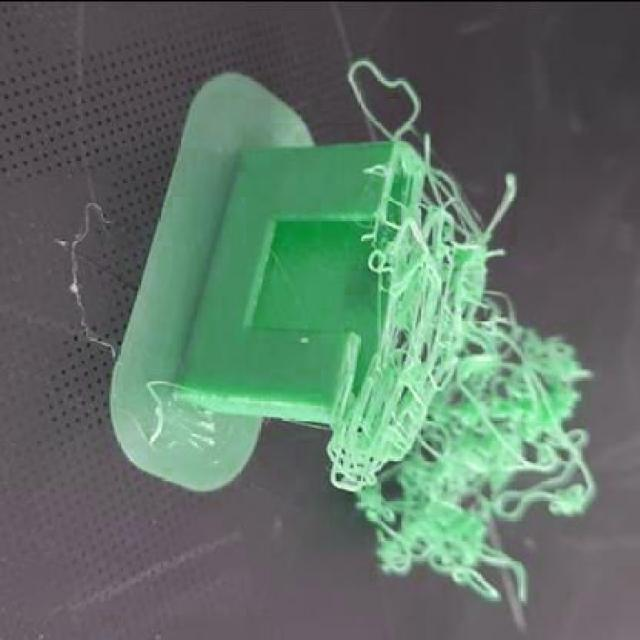spaghetti: (326, 290, 603, 636), (341, 56, 527, 292)
